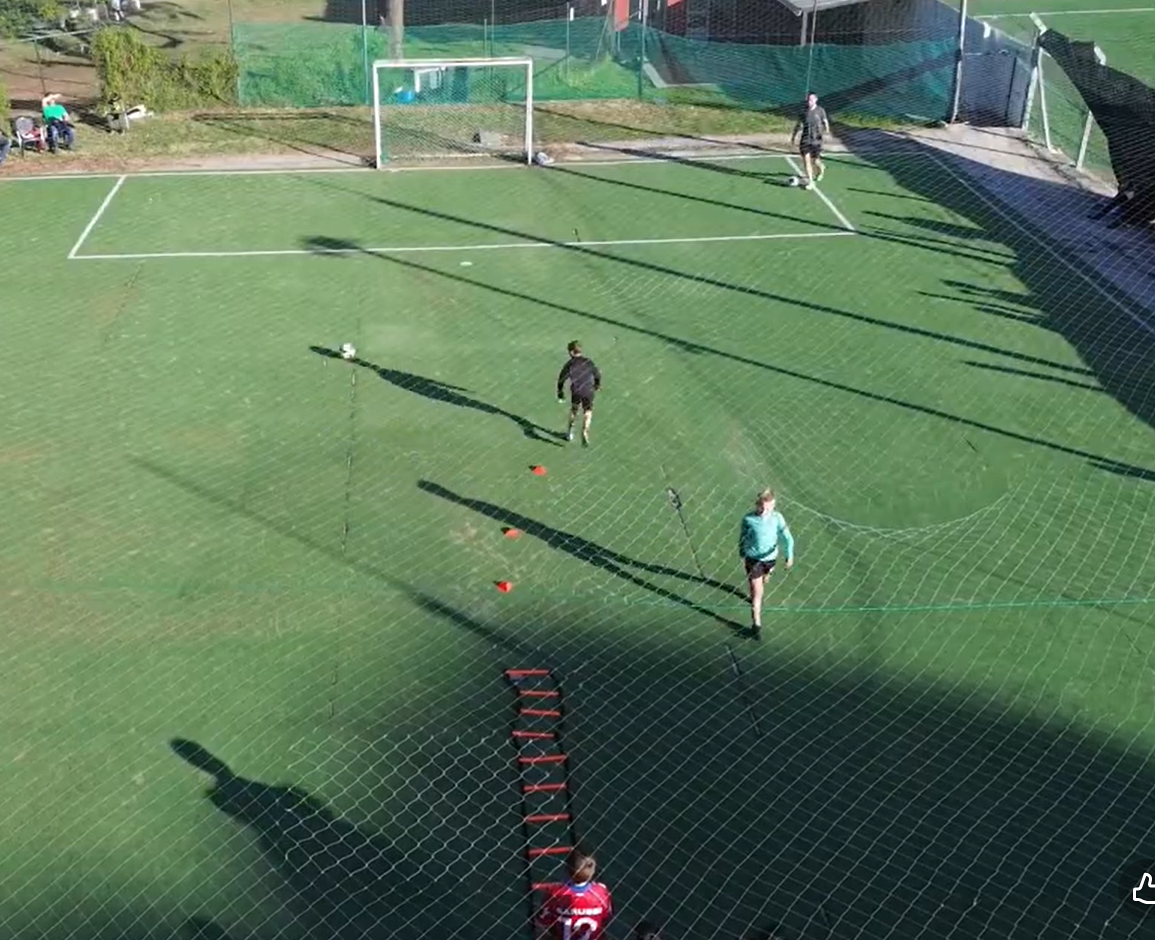cone: (486, 571, 525, 603), (495, 516, 532, 546), (520, 459, 557, 484)
goal: (353, 39, 555, 186)
ladder: (493, 651, 619, 940)
